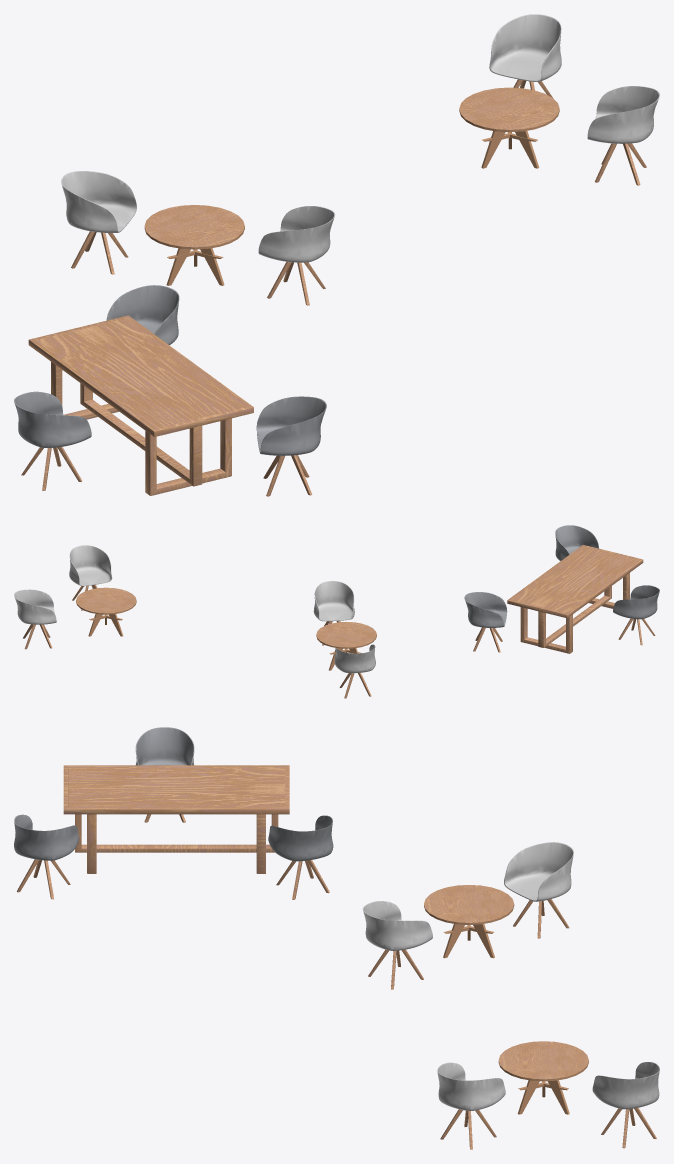
Rendered from SillasAndTable.obj.
3 renders of one model, top to bottom at view 1: azimuth 30°, elevation 25°; view 2: azimuth 150°, elevation 25°; view 3: azimuth 270°, elevation 25°, orthographic. The views are drawn at different scales.
Parts seen in each view (by area): view 1: C__LEG_002_Cube_011, Group_002; view 2: C__LEG_002_Cube_011, Group_002; view 3: C__LEG_002_Cube_011, Group_002.
Part boxes in pixels (<box>): C__LEG_002_Cube_011: <box>14,285,326,496</box>; Group_002: <box>61,14,659,305</box>; C__LEG_002_Cube_011: <box>464,525,659,653</box>; Group_002: <box>14,545,376,698</box>; C__LEG_002_Cube_011: <box>14,727,333,899</box>; Group_002: <box>362,842,659,1149</box>.
Size of the model in its own units: 71.31 by 6.81 by 55.19.
Materials: 3 (3 with a texture image).
